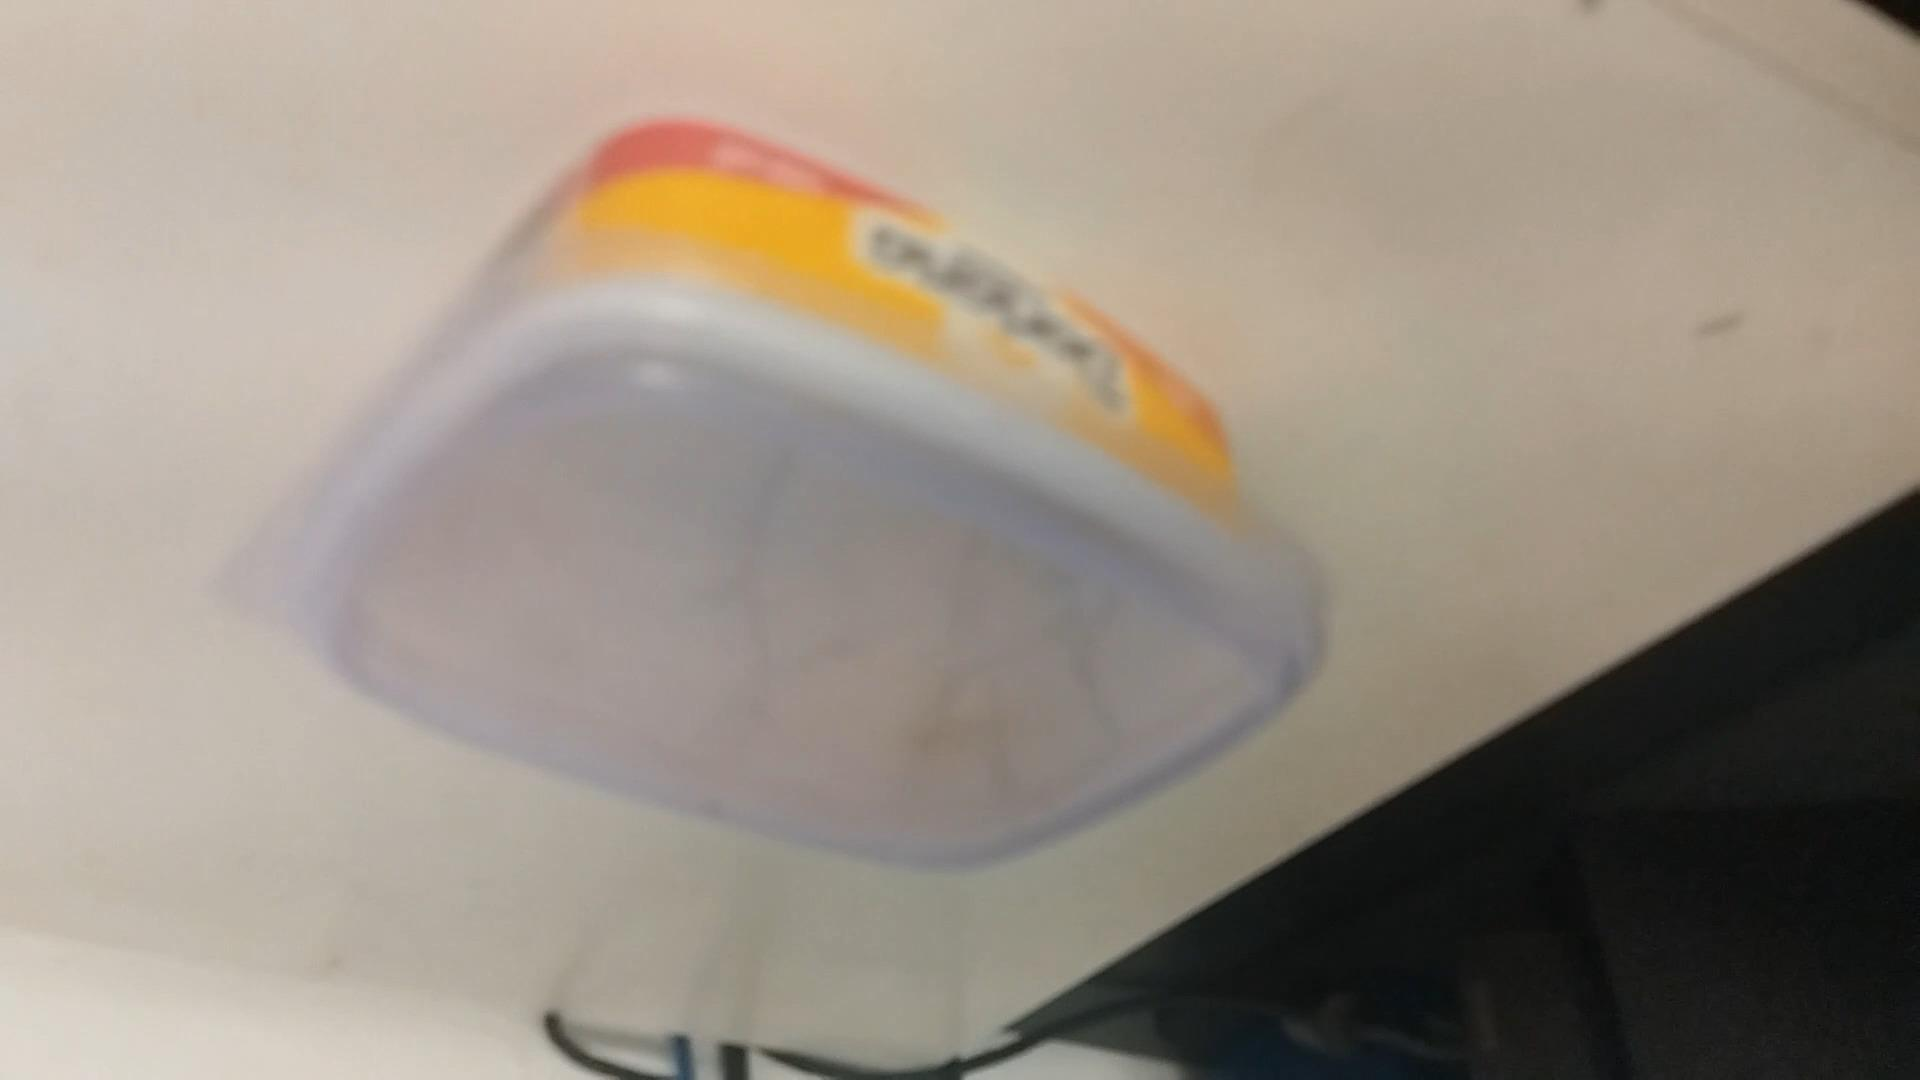butter: (220, 129, 1317, 874)
